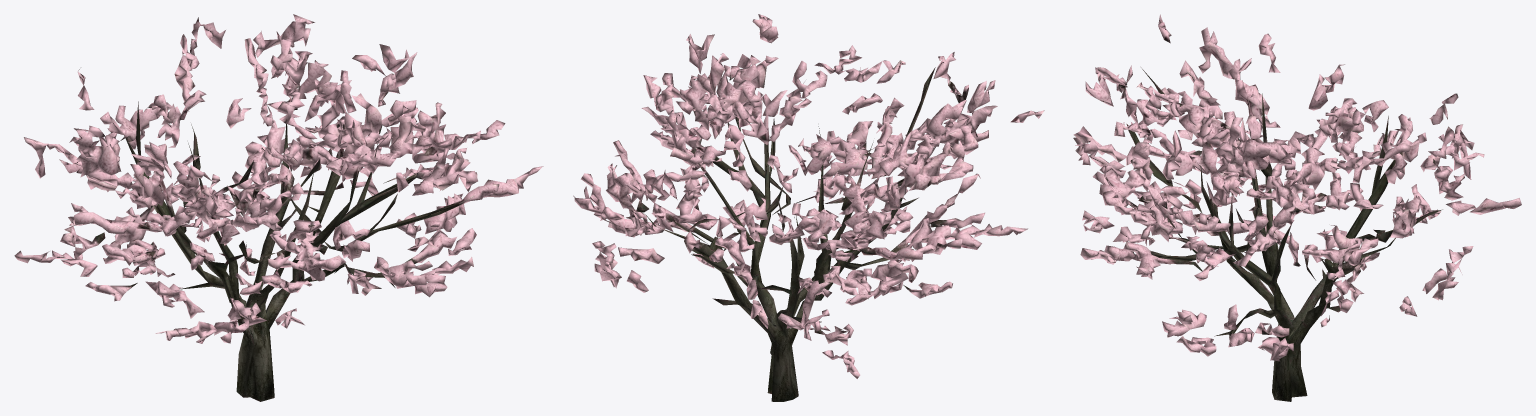
Rendered from tree_cherry_pink.glb.
The picture shows the model from 3 angles, left to right: view 1: azimuth 30°, elevation 25°; view 2: azimuth 150°, elevation 25°; view 3: azimuth 270°, elevation 25°; orthographic projection. The views are drawn at different scales.
Visible parts, largest first — view 1: Mesh_0; view 2: Mesh_0; view 3: Mesh_0.
Boxes of the visible parts, x1,y1,x2,y2 form: Mesh_0: (14,14,543,401); Mesh_0: (573,14,1044,401); Mesh_0: (1073,14,1521,401).
Size of the model in its own units: 1.72 by 1.35 by 1.72.
1 material, 1 textured.
